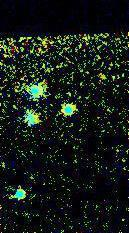star: (85, 62, 115, 92)
